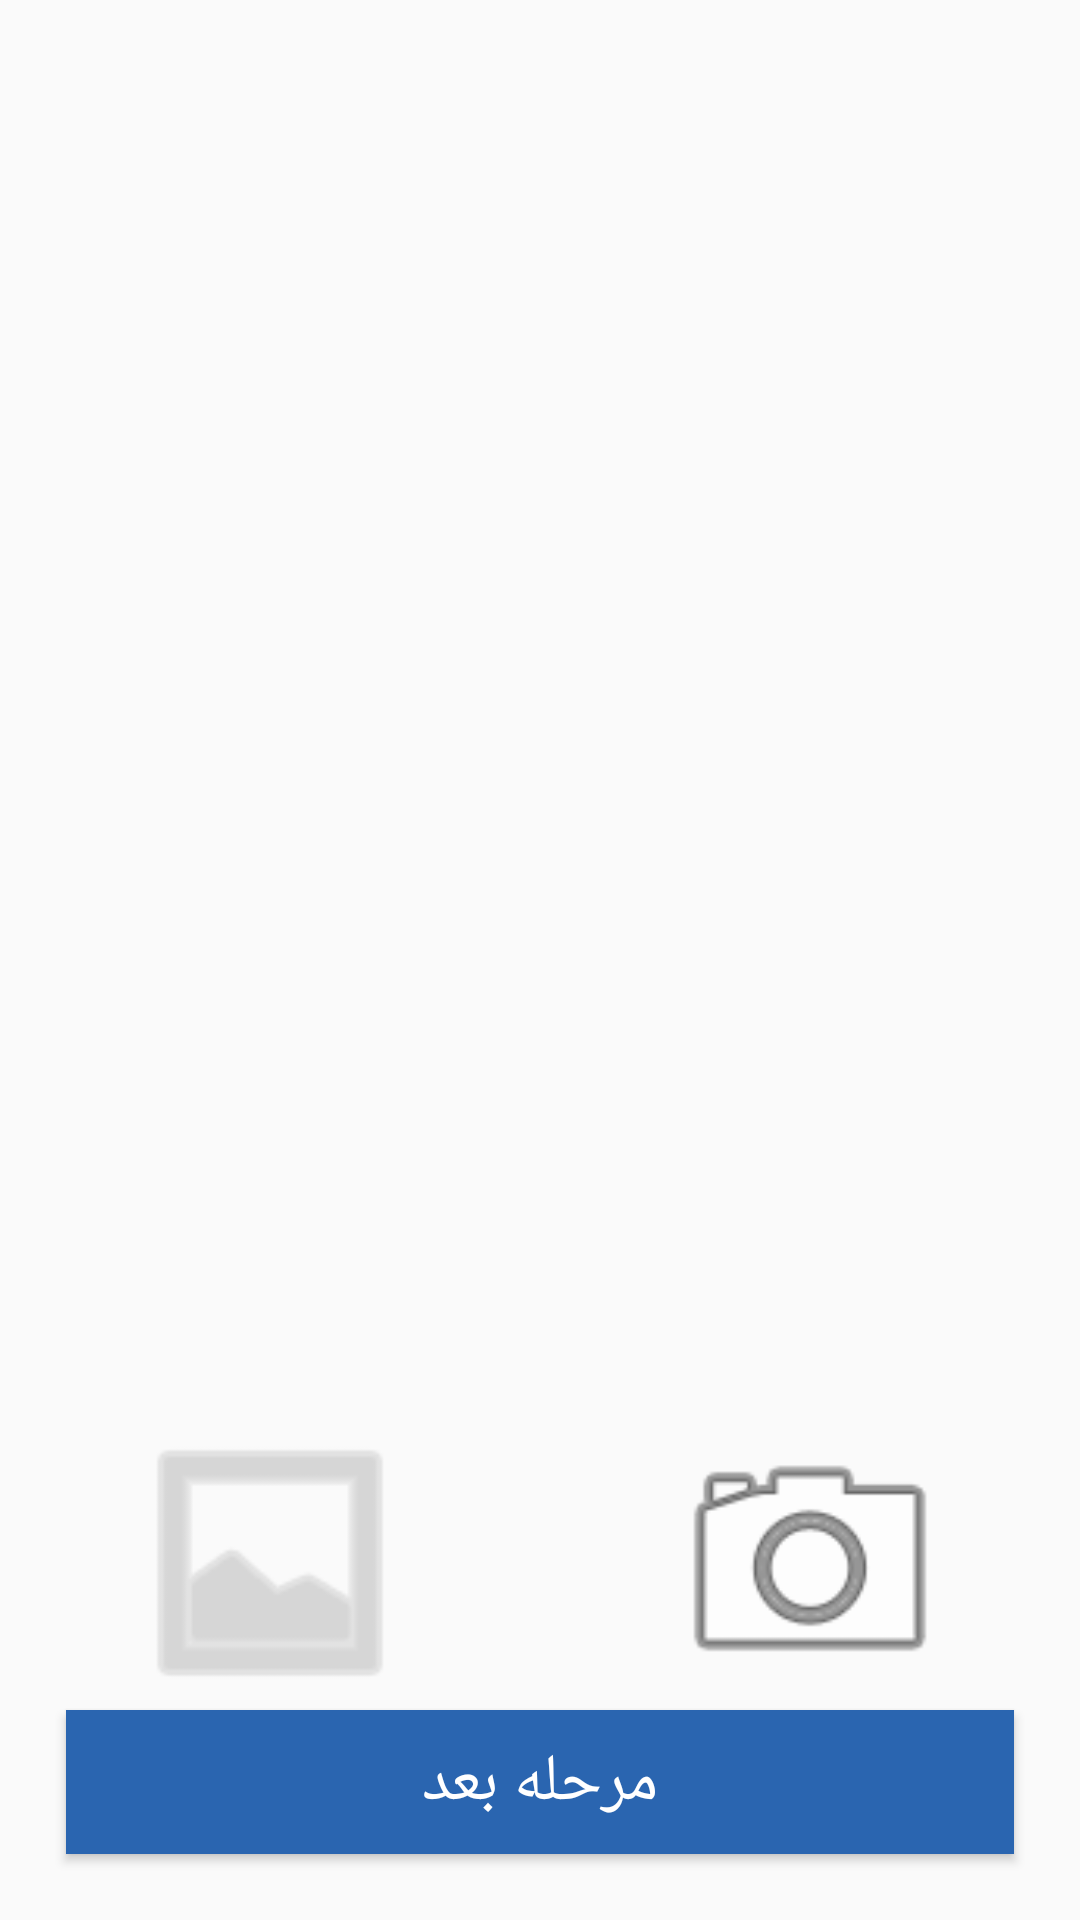

Named icons in this screenshot (1080*1920) and their bounding boxes, (x1, y1, x2, y2):
camera: (694, 1466, 926, 1651)
gallery: (162, 1455, 378, 1671)
